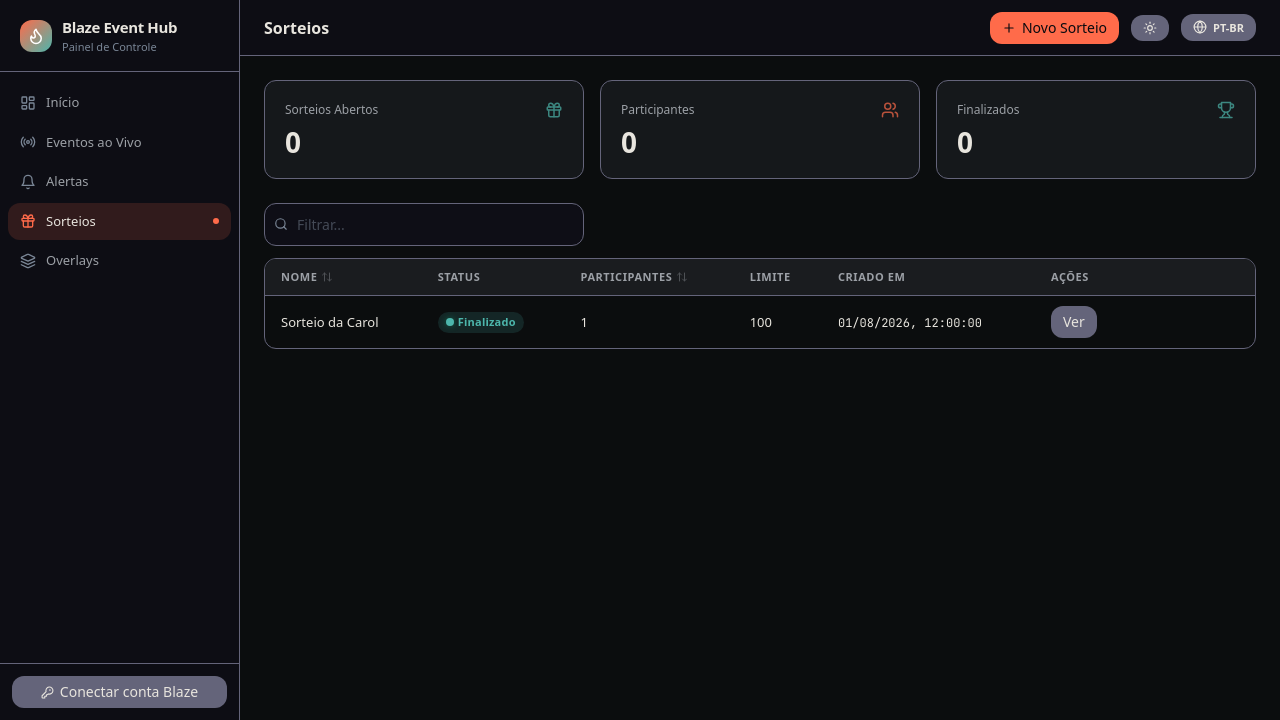
Test: Giveaways › modal de detalhes mostra o titulo e a ganhadora quando ha vencedores
Click the button "Ver": coordinates (1074, 322) [1051,306,1097,338]
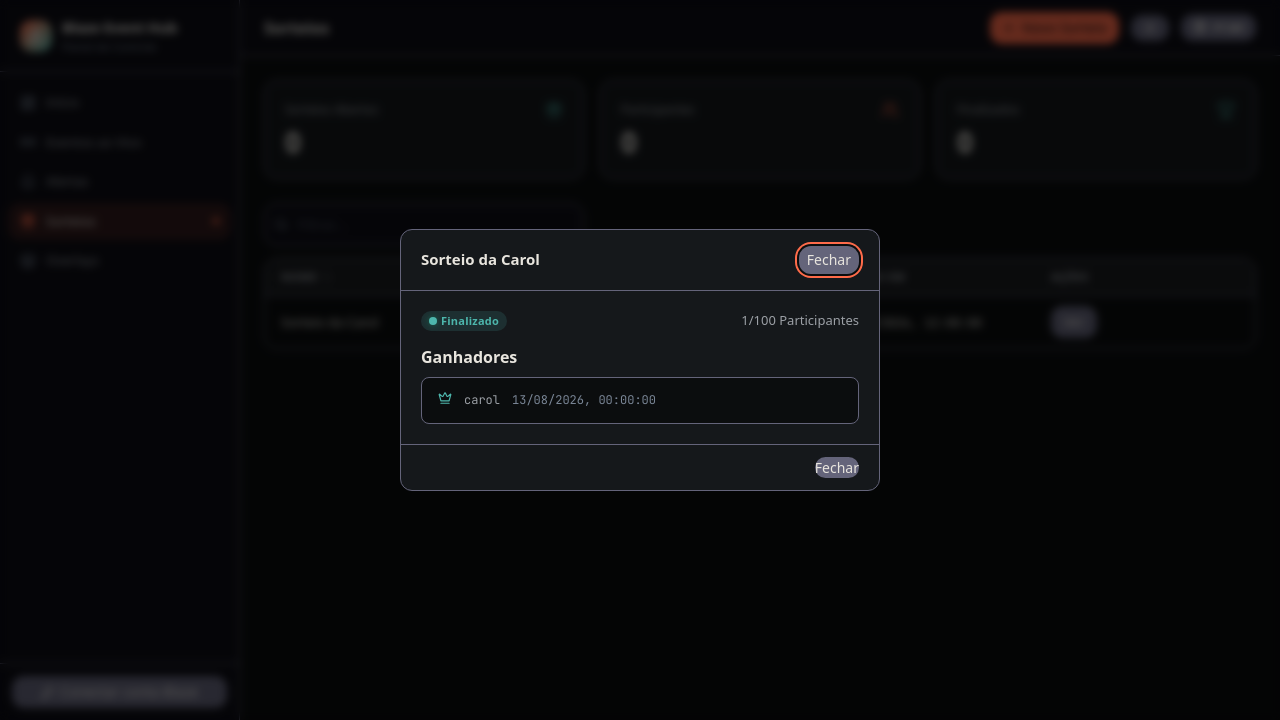
Check: the heading "Sorteio da Carol" is shown, box [421,248,540,271]
Check: the text "carol" is shown, box [464,391,500,410]
